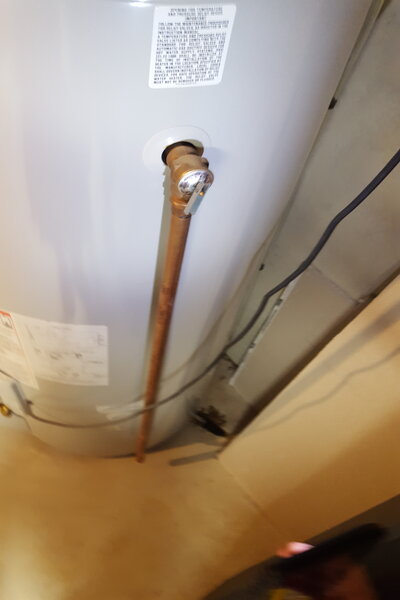valve: (165, 144, 213, 231)
